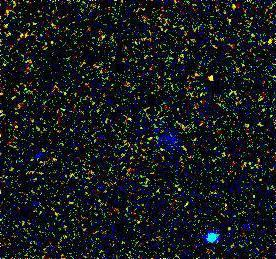star: (195, 61, 225, 91)
